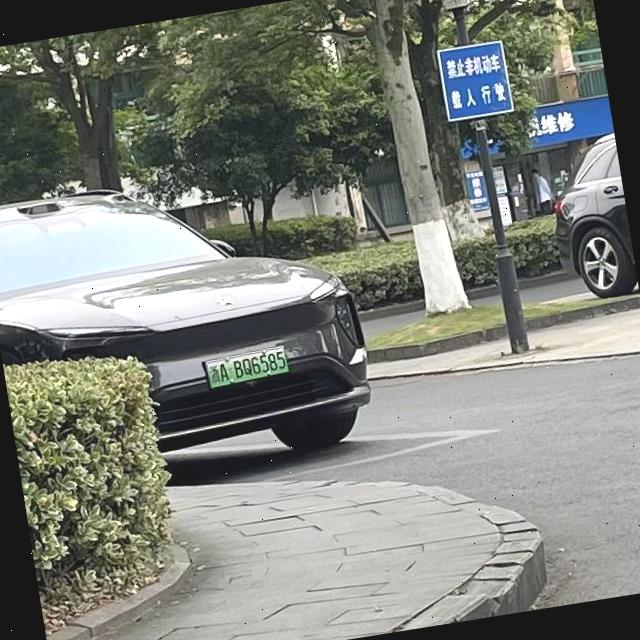curb: (365, 482, 545, 631), (47, 543, 191, 640), (370, 350, 640, 381), (368, 324, 505, 363), (527, 297, 640, 330), (360, 300, 423, 322), (521, 272, 578, 289), (468, 285, 499, 300)
